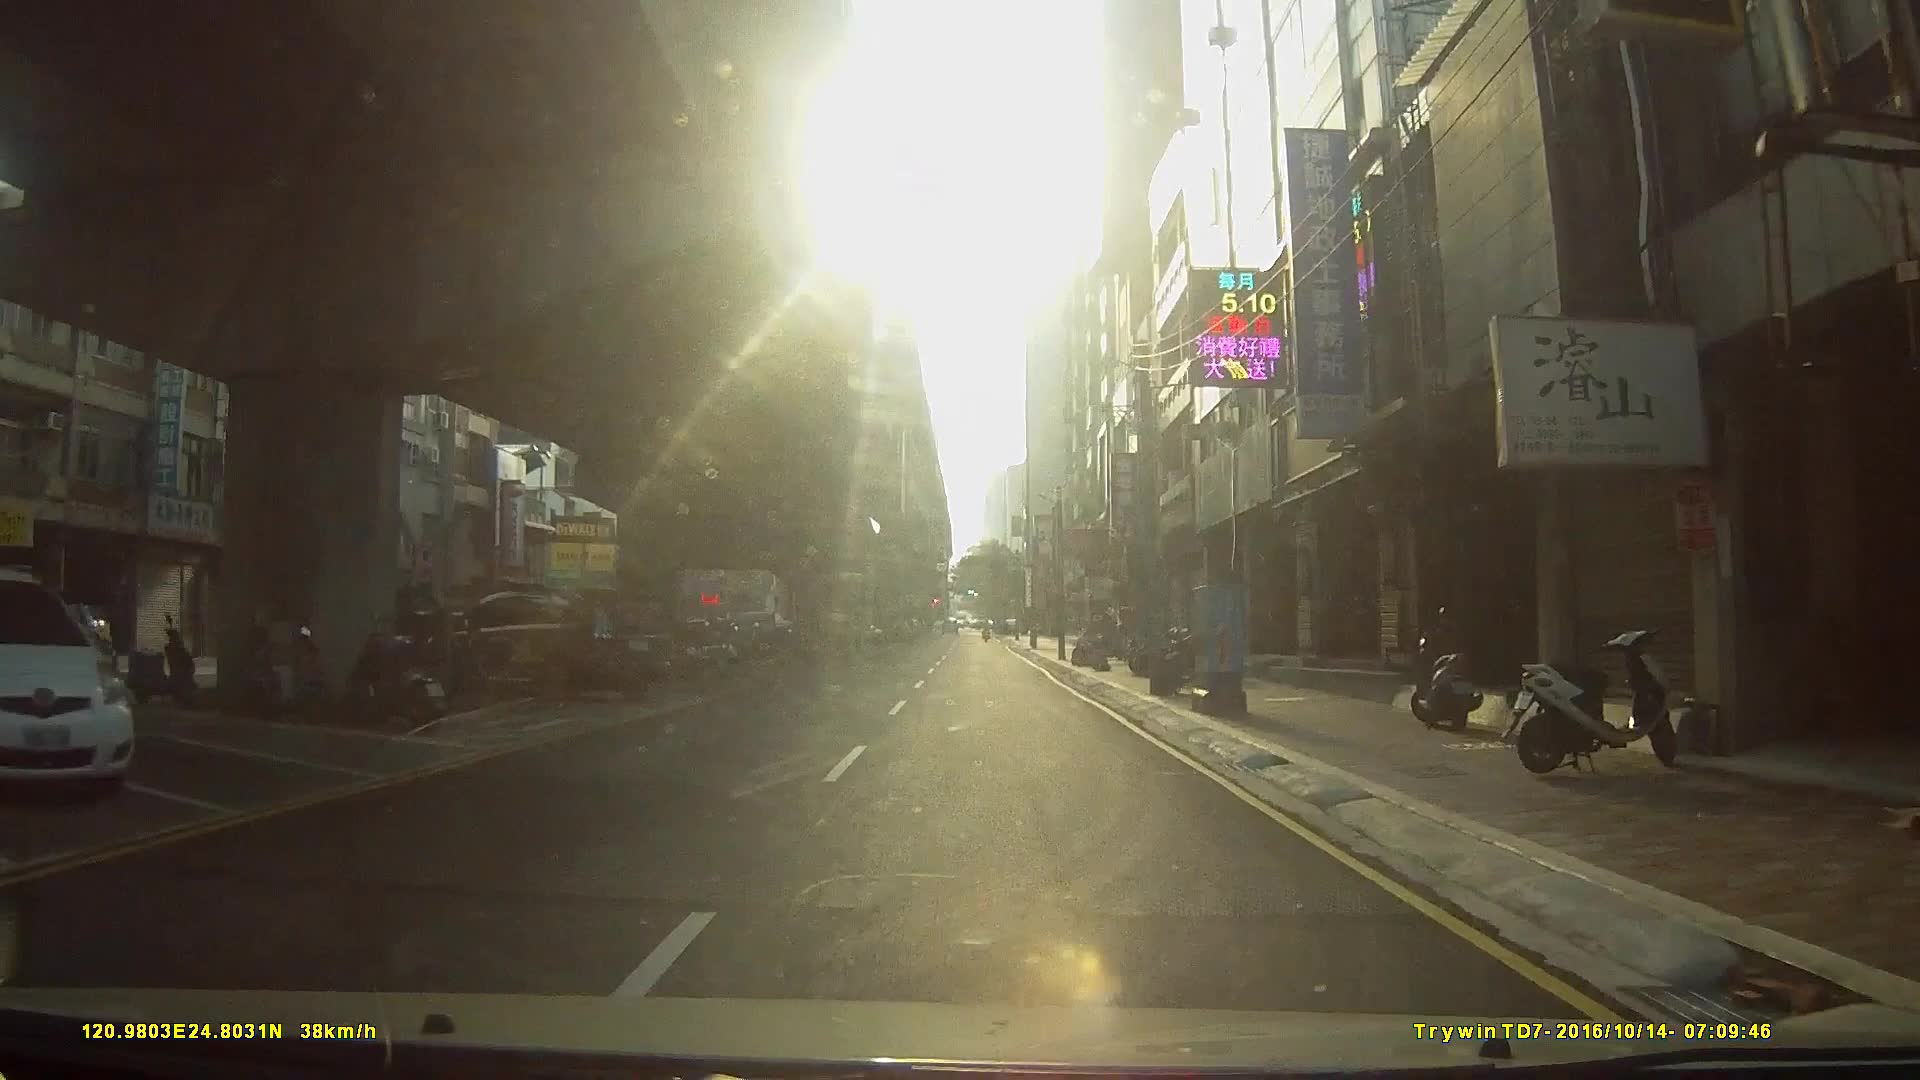vehicle: (0, 567, 135, 795), (434, 584, 673, 699), (611, 618, 735, 686)
